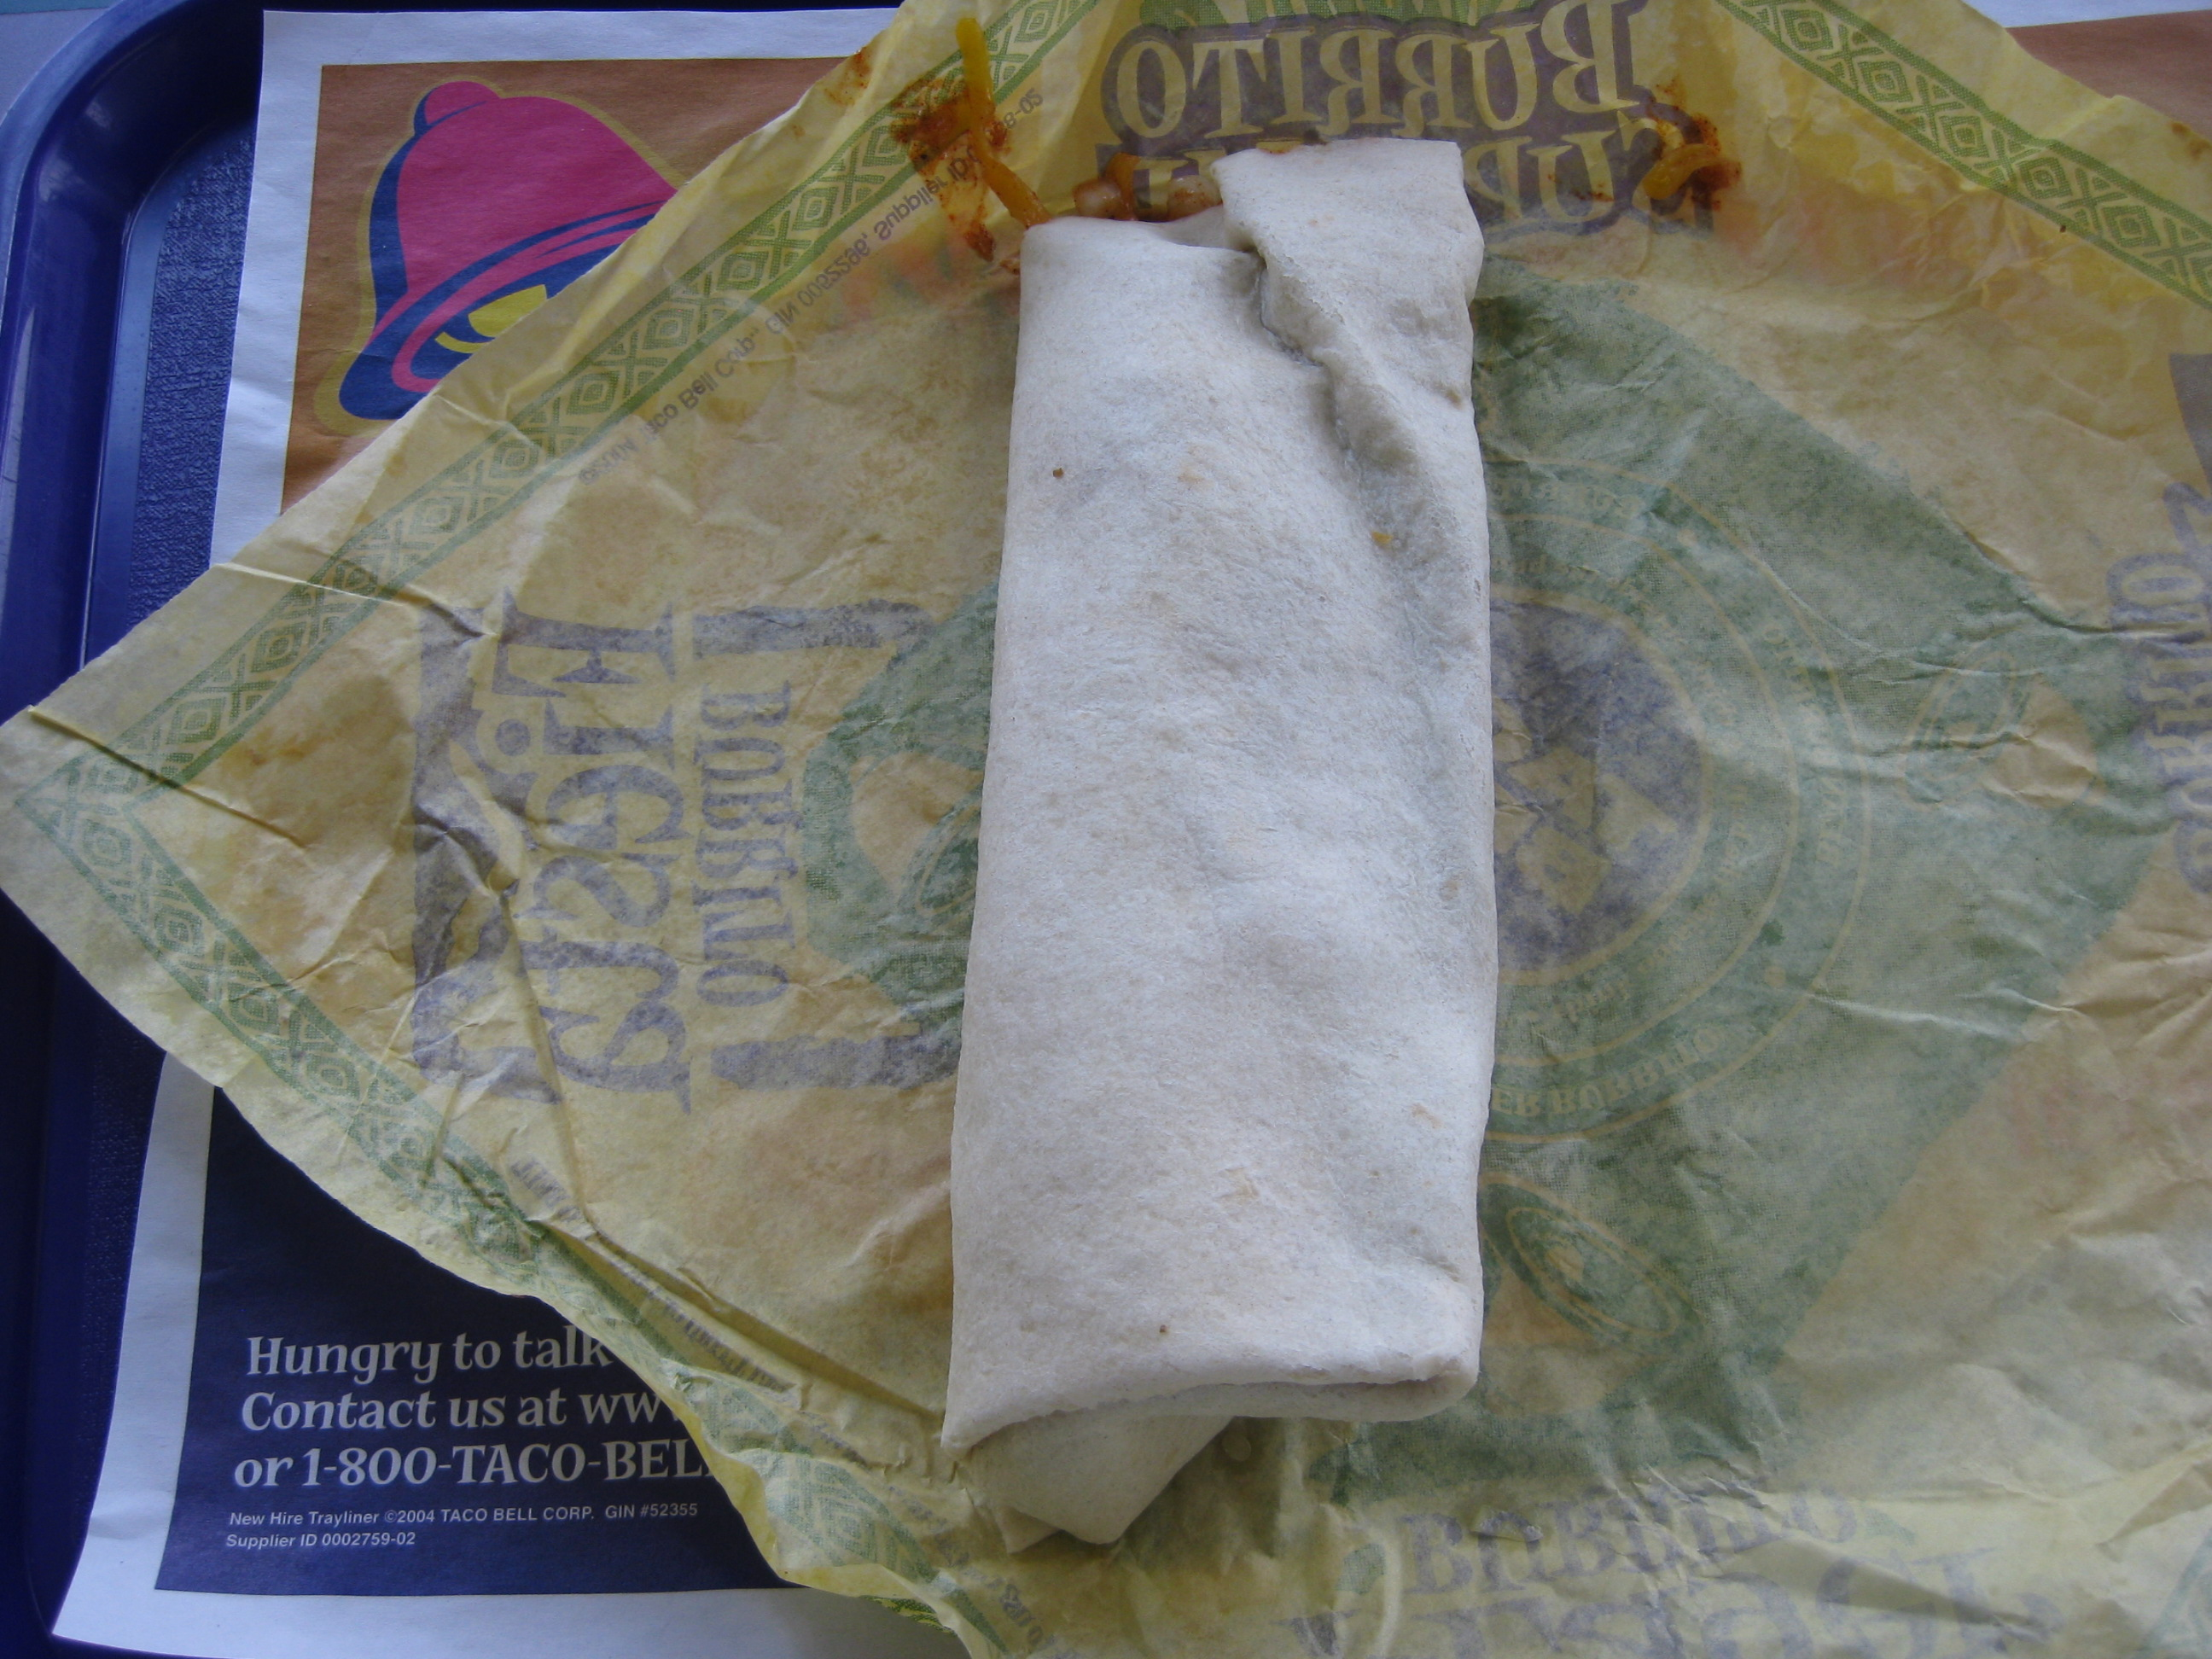burrito: (834, 121, 1638, 1544)
